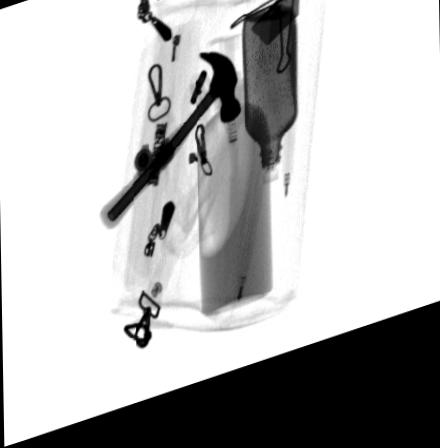Hammer: (98, 61, 243, 237)
